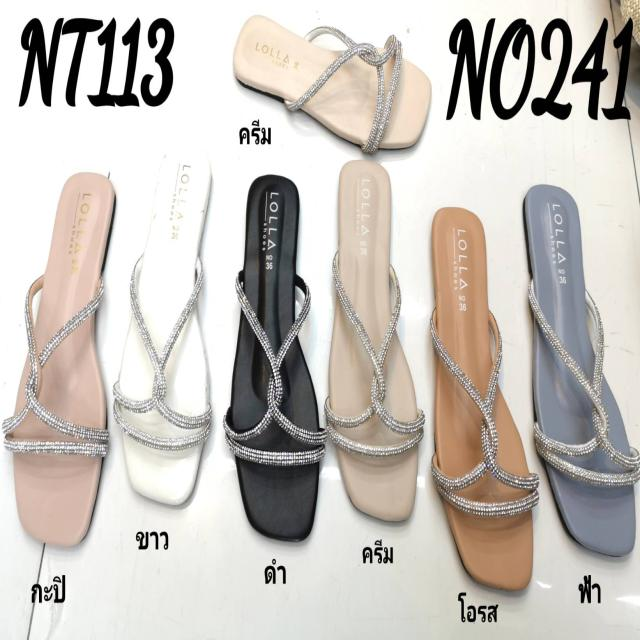black: (231, 174, 318, 537)
blue: (525, 184, 638, 559)
cream: (328, 161, 418, 526), (235, 14, 431, 157)
kapi: (14, 173, 110, 552)
orot: (429, 205, 530, 590)
white: (115, 152, 210, 508)
